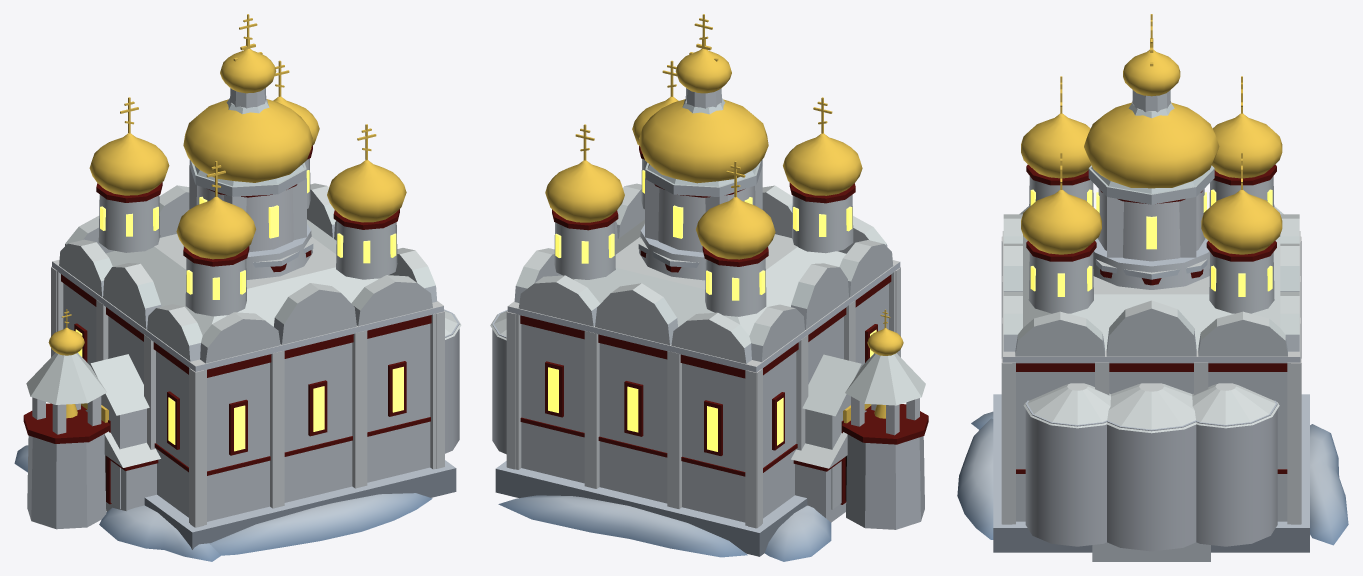
File: venue_winter.glb
The picture shows the model from 3 angles, left to right: view 1: azimuth 30°, elevation 25°; view 2: azimuth 150°, elevation 25°; view 3: azimuth 270°, elevation 25°; orthographic projection. The views are drawn at different scales.
Visible parts, largest first — view 1: RussianCathedral, WinterNorthChapel, RussianBellTower; view 2: RussianCathedral, WinterNorthChapel, RussianBellTower; view 3: RussianCathedral, RussianBellTower, WinterNorthChapel.
Part boxes in pixels (x1,y1,x2,y2): RussianCathedral: (14,38,461,561); WinterNorthChapel: (23,309,160,529); RussianBellTower: (189,14,313,272); RussianCathedral: (490,38,900,561); WinterNorthChapel: (791,309,928,529); RussianBellTower: (638,14,762,272); RussianCathedral: (957,38,1348,552); RussianBellTower: (1088,14,1214,285); WinterNorthChapel: (1092,542,1210,561).
Bounding box in the file's own units: 19.43 × 21.04 × 15.83.
